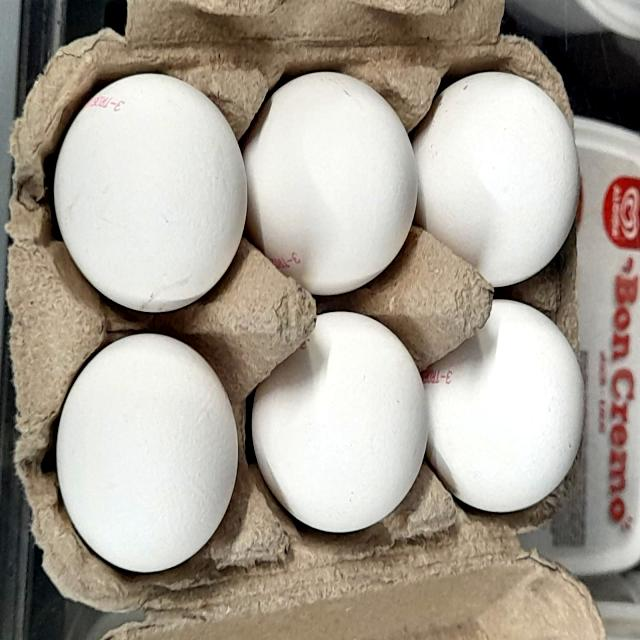egg: (44, 54, 252, 316), (44, 327, 243, 586), (252, 296, 432, 550), (243, 48, 420, 304), (409, 43, 584, 289), (434, 280, 589, 525)
